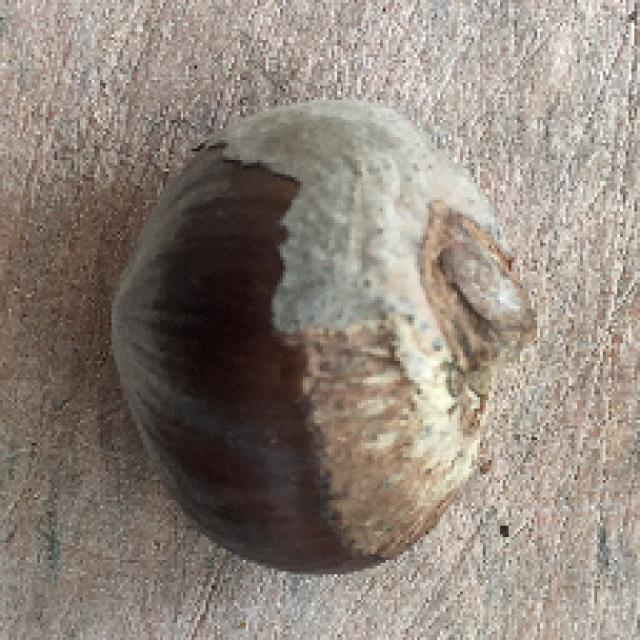damagedHazelnut: (90, 88, 540, 593)
